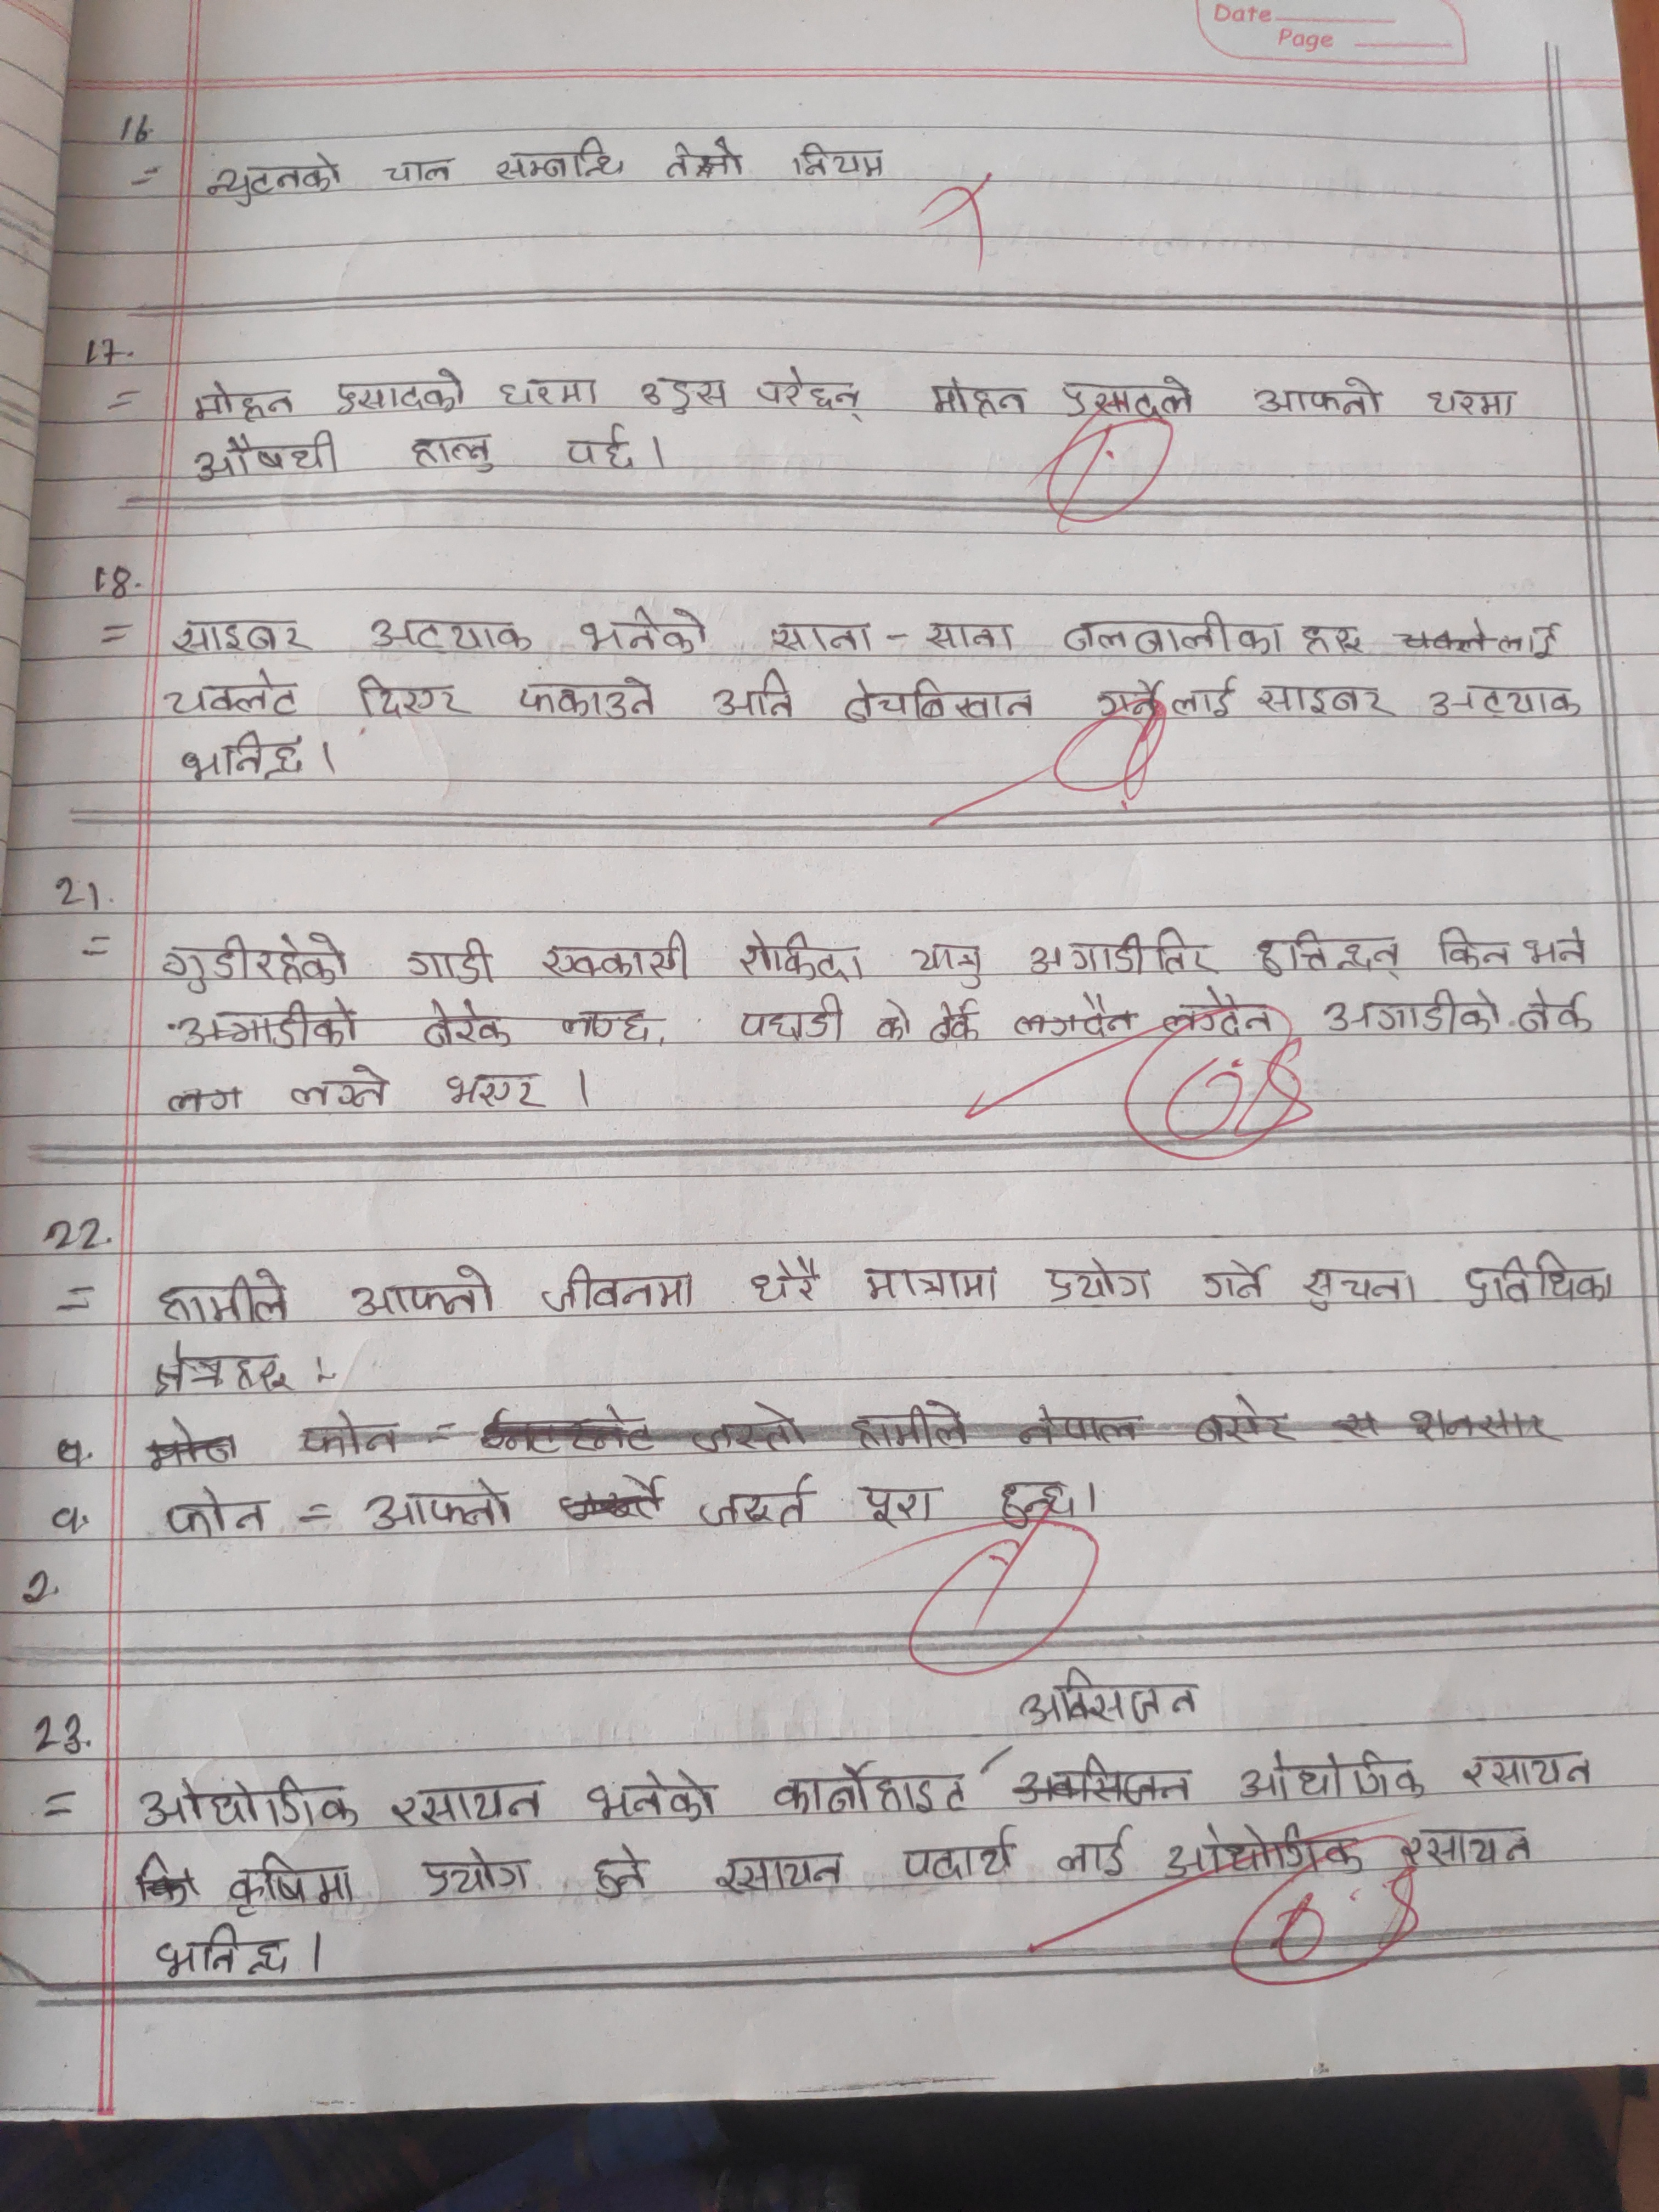text: (1164, 1817, 1371, 1881), (138, 1773, 368, 1831), (1056, 606, 1293, 660), (153, 930, 350, 995), (767, 1757, 974, 1818), (1016, 1663, 1204, 1728), (843, 671, 1039, 730), (173, 995, 361, 1054), (1232, 1747, 1424, 1804), (1319, 986, 1504, 1043), (153, 1261, 298, 1332), (345, 1263, 504, 1325), (362, 1475, 519, 1538), (734, 920, 871, 989), (152, 1919, 296, 1986), (1460, 1251, 1617, 1312), (223, 1848, 357, 1918), (540, 930, 697, 988), (765, 620, 1023, 655), (383, 1775, 552, 1827), (152, 1338, 295, 1399), (1253, 928, 1403, 986), (582, 1764, 718, 1825), (537, 1263, 701, 1313), (493, 132, 633, 192), (192, 428, 347, 481), (178, 726, 305, 789), (573, 599, 716, 655), (160, 669, 307, 723), (206, 153, 347, 209), (1147, 984, 1279, 1042), (1453, 1743, 1593, 1797), (331, 366, 469, 420), (1054, 371, 1201, 421), (366, 613, 535, 657), (896, 1822, 1016, 1883), (1422, 681, 1582, 726), (1093, 672, 1241, 721), (697, 1470, 816, 1531), (1246, 371, 1389, 421), (1021, 925, 1150, 981), (749, 366, 866, 427), (861, 1261, 1000, 1310), (422, 1841, 533, 1902), (518, 676, 662, 721), (716, 1848, 849, 1897), (1300, 1263, 1420, 1315), (735, 991, 845, 1047), (1042, 1254, 1154, 1308), (1391, 1829, 1544, 1867), (171, 617, 310, 658), (1253, 681, 1398, 721), (167, 1486, 270, 1541), (418, 995, 518, 1052), (286, 1064, 394, 1116), (354, 672, 469, 721), (192, 376, 301, 425), (927, 371, 1028, 421), (714, 665, 800, 725), (404, 935, 504, 986), (788, 138, 890, 185), (444, 1066, 549, 1111), (988, 1479, 1077, 1531), (1054, 1820, 1134, 1878), (498, 369, 605, 411), (910, 937, 992, 991), (748, 1252, 824, 1310), (1514, 986, 1598, 1038), (638, 371, 734, 416), (1424, 381, 1523, 425), (662, 132, 746, 183), (408, 434, 500, 479), (1516, 920, 1593, 974), (1147, 921, 1218, 979), (559, 421, 638, 474), (857, 1479, 936, 1531), (559, 1007, 659, 1047), (1192, 1252, 1267, 1301), (1438, 920, 1509, 970), (1495, 618, 1572, 660), (591, 1843, 647, 1900), (929, 993, 985, 1049), (1297, 620, 1370, 660), (376, 155, 460, 188), (875, 1000, 917, 1045)
